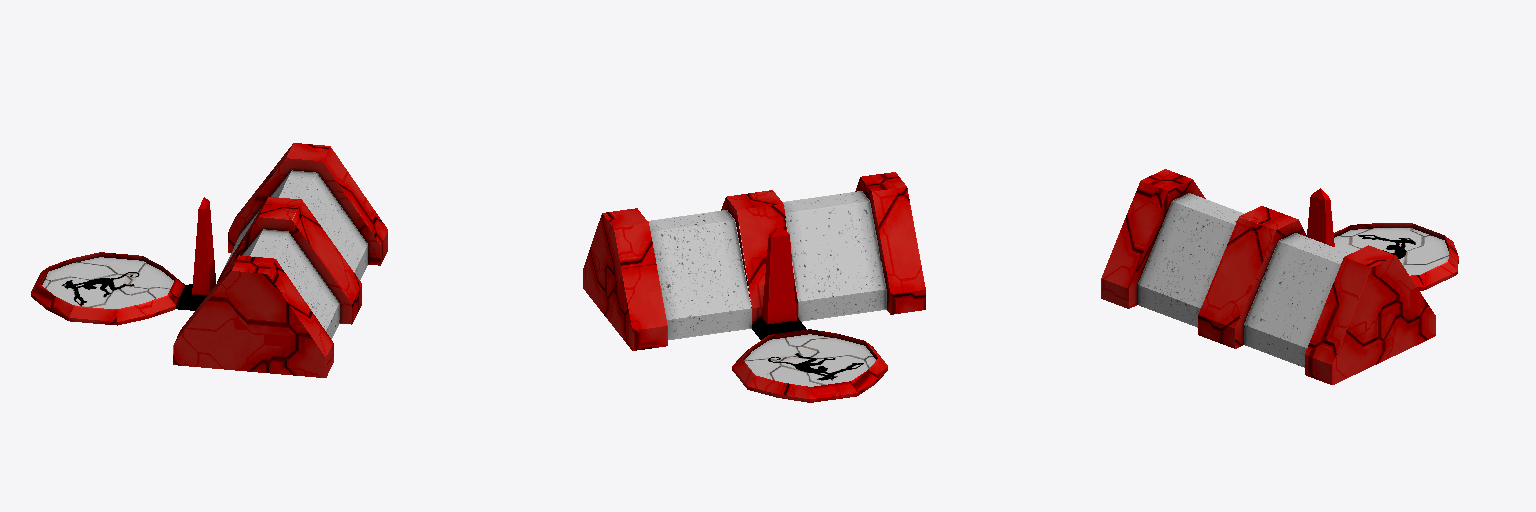
3 views of the same model, side by side, from view 1: azimuth 30°, elevation 25°; view 2: azimuth 150°, elevation 25°; view 3: azimuth 270°, elevation 25° (orthographic).
Parts seen in each view (by area): view 1: Box004; view 2: Box004; view 3: Box004.
Part boxes in pixels (x1,y1,x2,y2): Box004: (31,143,387,377); Box004: (583,172,925,402); Box004: (1101,169,1458,384).
Bounding box in the file's own units: 32.26 × 10.16 × 31.53.
Materials: 1 (1 with a texture image).